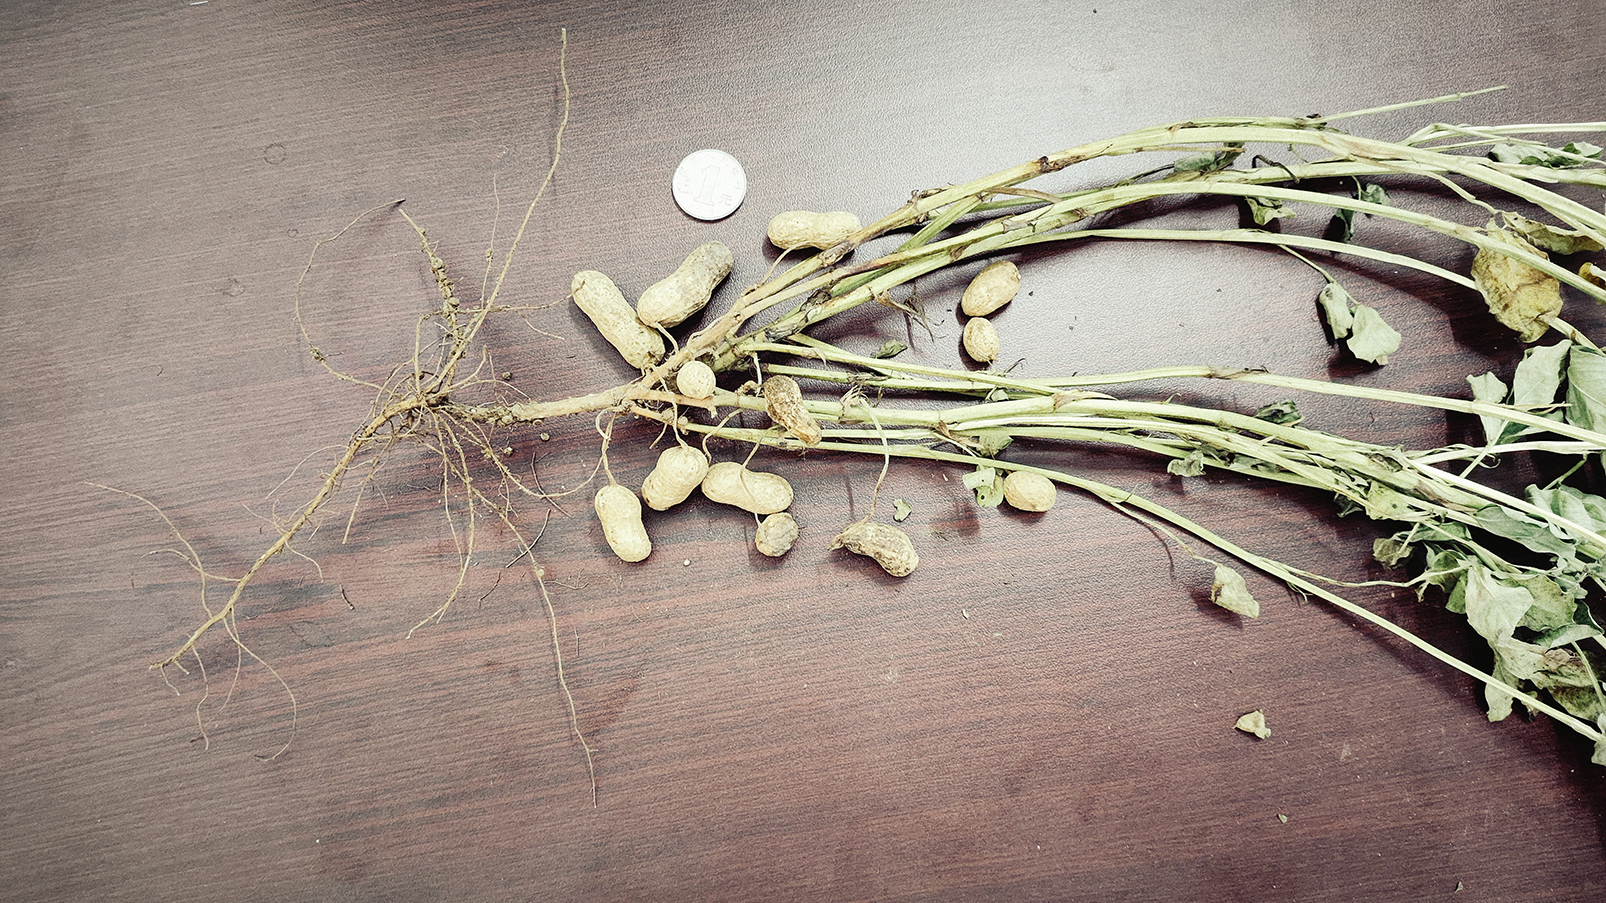h: (572, 269, 666, 370), (640, 241, 734, 330), (699, 462, 794, 515), (593, 484, 654, 563), (640, 444, 707, 512), (765, 206, 863, 252), (962, 256, 1023, 318), (1002, 470, 1057, 514), (961, 316, 1000, 361), (674, 362, 715, 399)
l: (842, 524, 919, 580), (762, 375, 820, 447), (754, 512, 800, 560)
